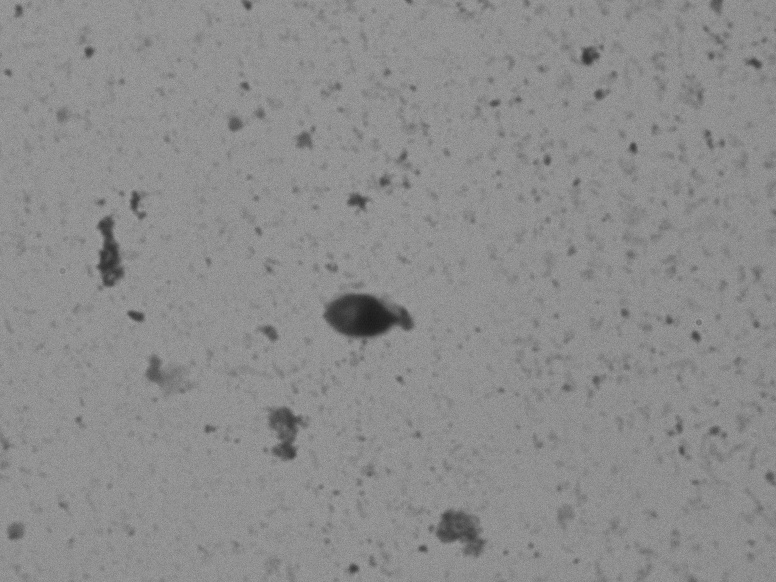Abnormal: (250, 240, 458, 397)
